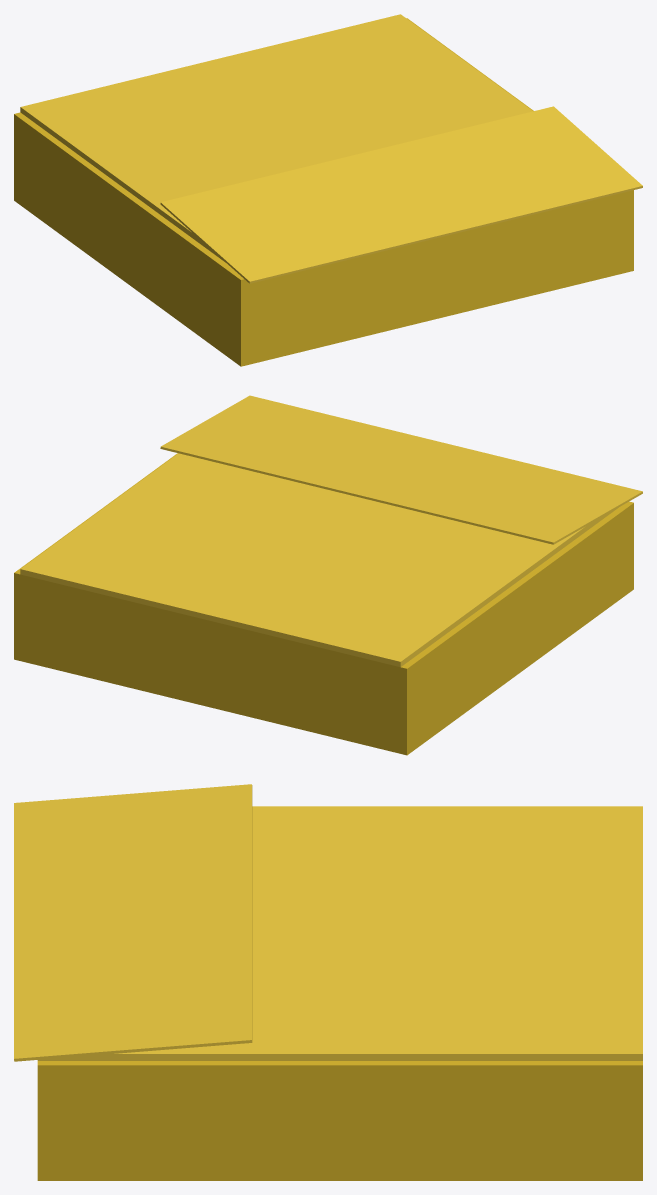
File: sticky_notes.glb
3 views of the same model, one above another, from view 1: azimuth 30°, elevation 25°; view 2: azimuth 150°, elevation 25°; view 3: azimuth 270°, elevation 25° (orthographic). The views are drawn at different scales.
Visible parts, largest first — view 1: sticky_notes; view 2: sticky_notes; view 3: sticky_notes.
Part boxes in pixels (left/top/right/bottom): sticky_notes: left=14, top=14, right=642, bottom=366; sticky_notes: left=14, top=395, right=642, bottom=755; sticky_notes: left=14, top=784, right=642, bottom=1180.
Bounding box in the file's own units: 0.0732 × 0.0188 × 0.076.
